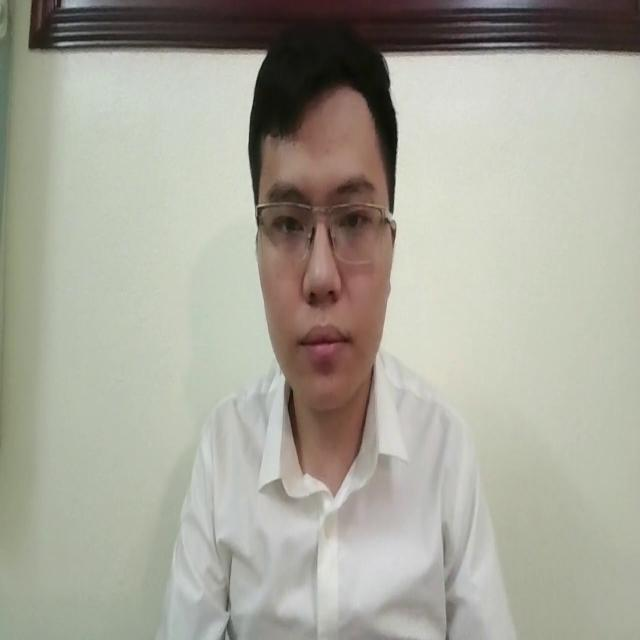student: (166, 10, 511, 640)
